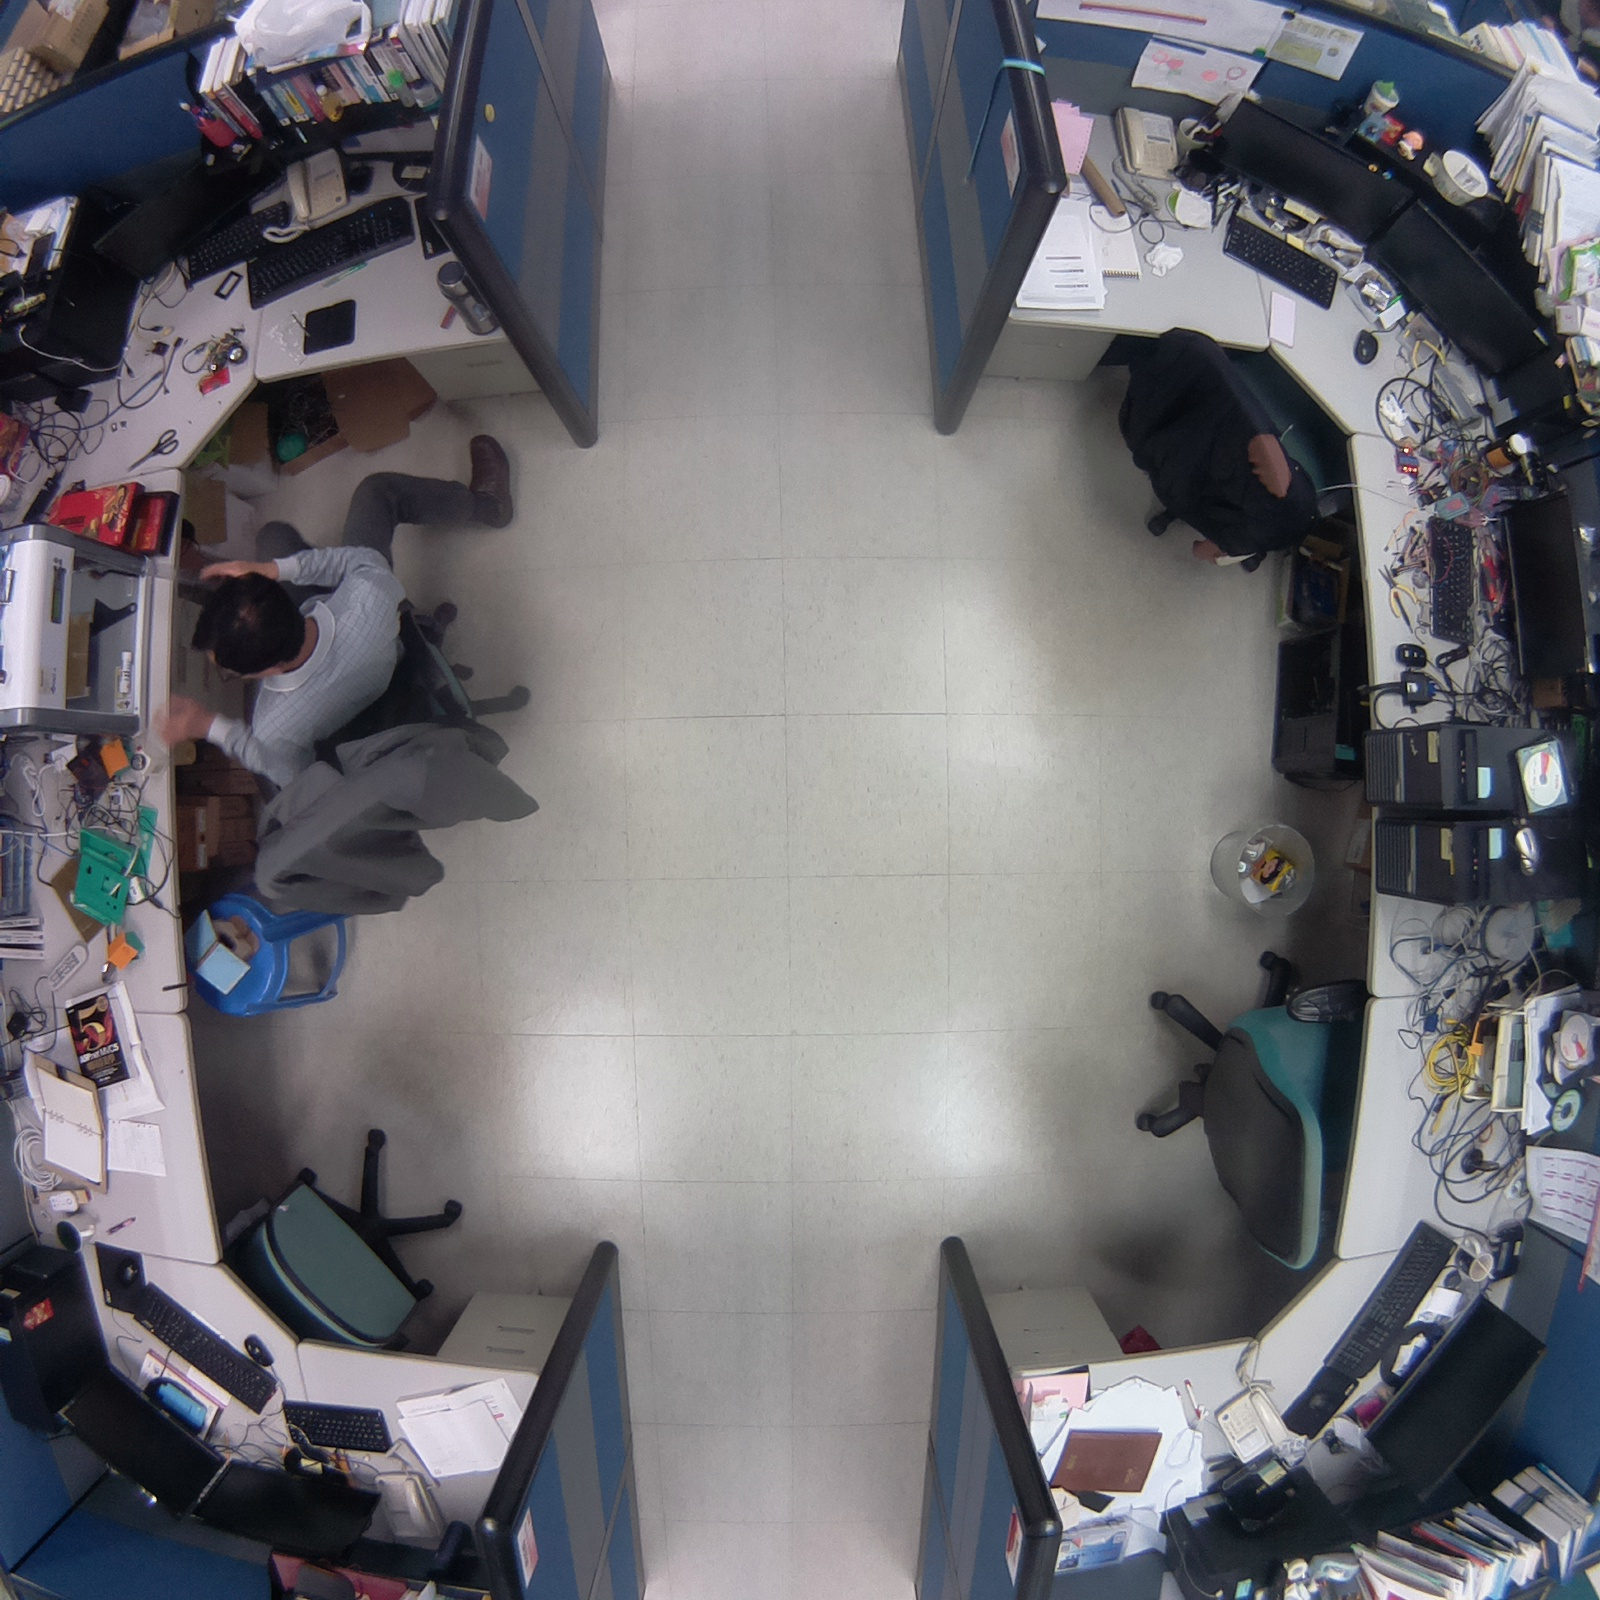chair: (1127, 922, 1378, 1291), (212, 1099, 491, 1373), (1101, 306, 1360, 586)
head: (189, 565, 312, 685)
sitting: (142, 427, 568, 932)
